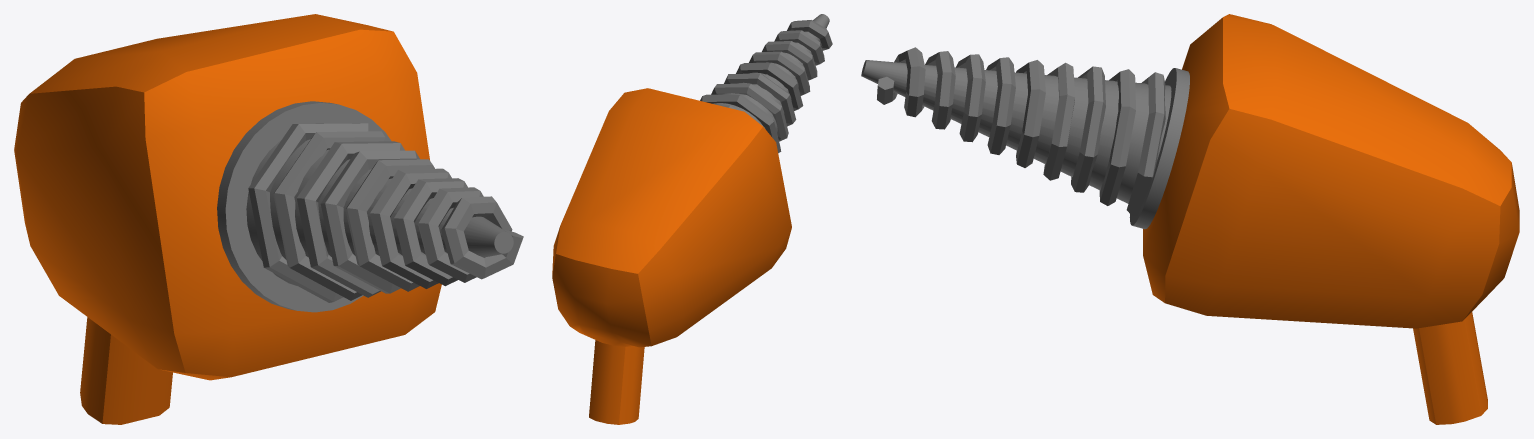
The model's file is hole_pickup_animated.fbx.
3 renders of one model, left to right at view 1: azimuth 30°, elevation 25°; view 2: azimuth 150°, elevation 25°; view 3: azimuth 270°, elevation 25°, orthographic. The views are drawn at different scales.
Visible parts, largest first — view 1: Cylinder; view 2: Cylinder; view 3: Cylinder.
Part boxes in pixels (x1,y1,x2,y2): Cylinder: (14,14,523,424); Cylinder: (552,14,832,424); Cylinder: (861,14,1519,424).
Size of the model in its own units: 112 by 171 by 281.
